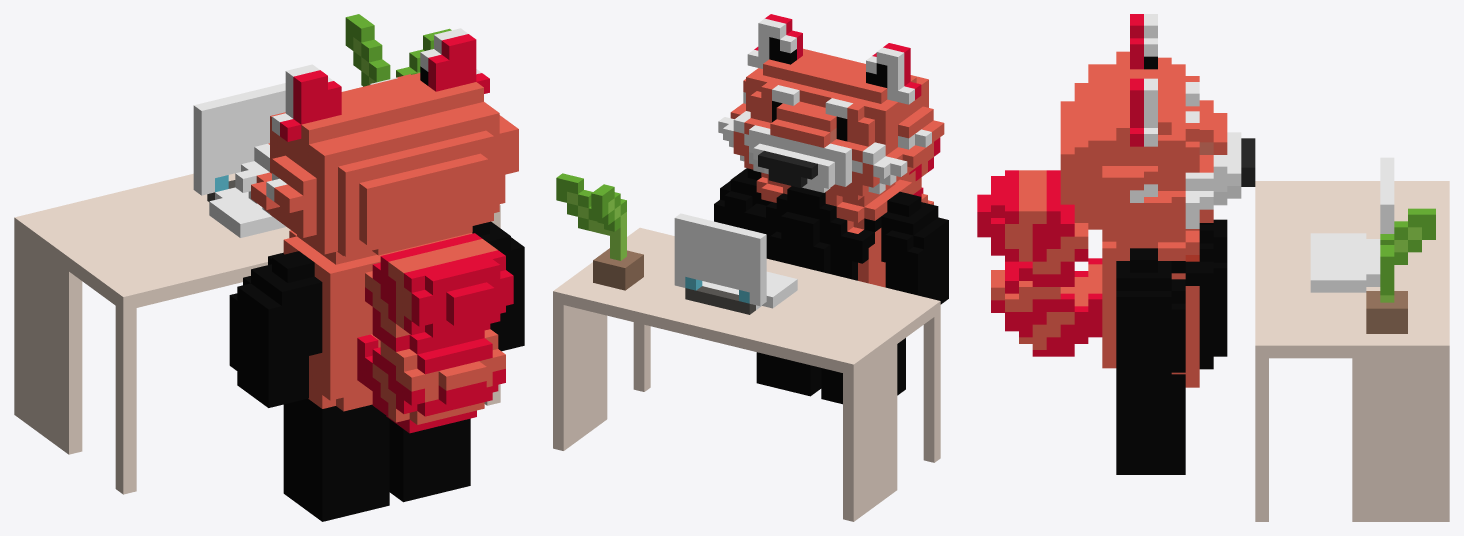
File: dimensional-bjorn.gltf
3 views of the same model, side by side, from view 1: azimuth 30°, elevation 25°; view 2: azimuth 150°, elevation 25°; view 3: azimuth 270°, elevation 25° (orthographic). The views are drawn at different scales.
Visible parts, largest first — view 1: unnamed.2 clone, unnamed.2; view 2: unnamed.2, unnamed.2 clone; view 3: unnamed.2 clone, unnamed.2.
Boxes of the visible parts, bbox=[...] form: unnamed.2 clone: bbox=[229, 28, 524, 521]; unnamed.2: bbox=[14, 14, 500, 494]; unnamed.2: bbox=[553, 173, 940, 521]; unnamed.2 clone: bbox=[714, 14, 948, 404]; unnamed.2 clone: bbox=[977, 14, 1255, 474]; unnamed.2: bbox=[1255, 157, 1449, 521].
Size of the model in its own units: 30 by 31 by 34.
Materials: 1 (1 with a texture image).
